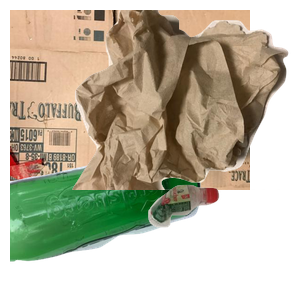cardboard: (10, 10, 250, 190)
glass: (10, 149, 203, 300)
plastic: (146, 182, 300, 300)
trash: (70, 10, 300, 190)
